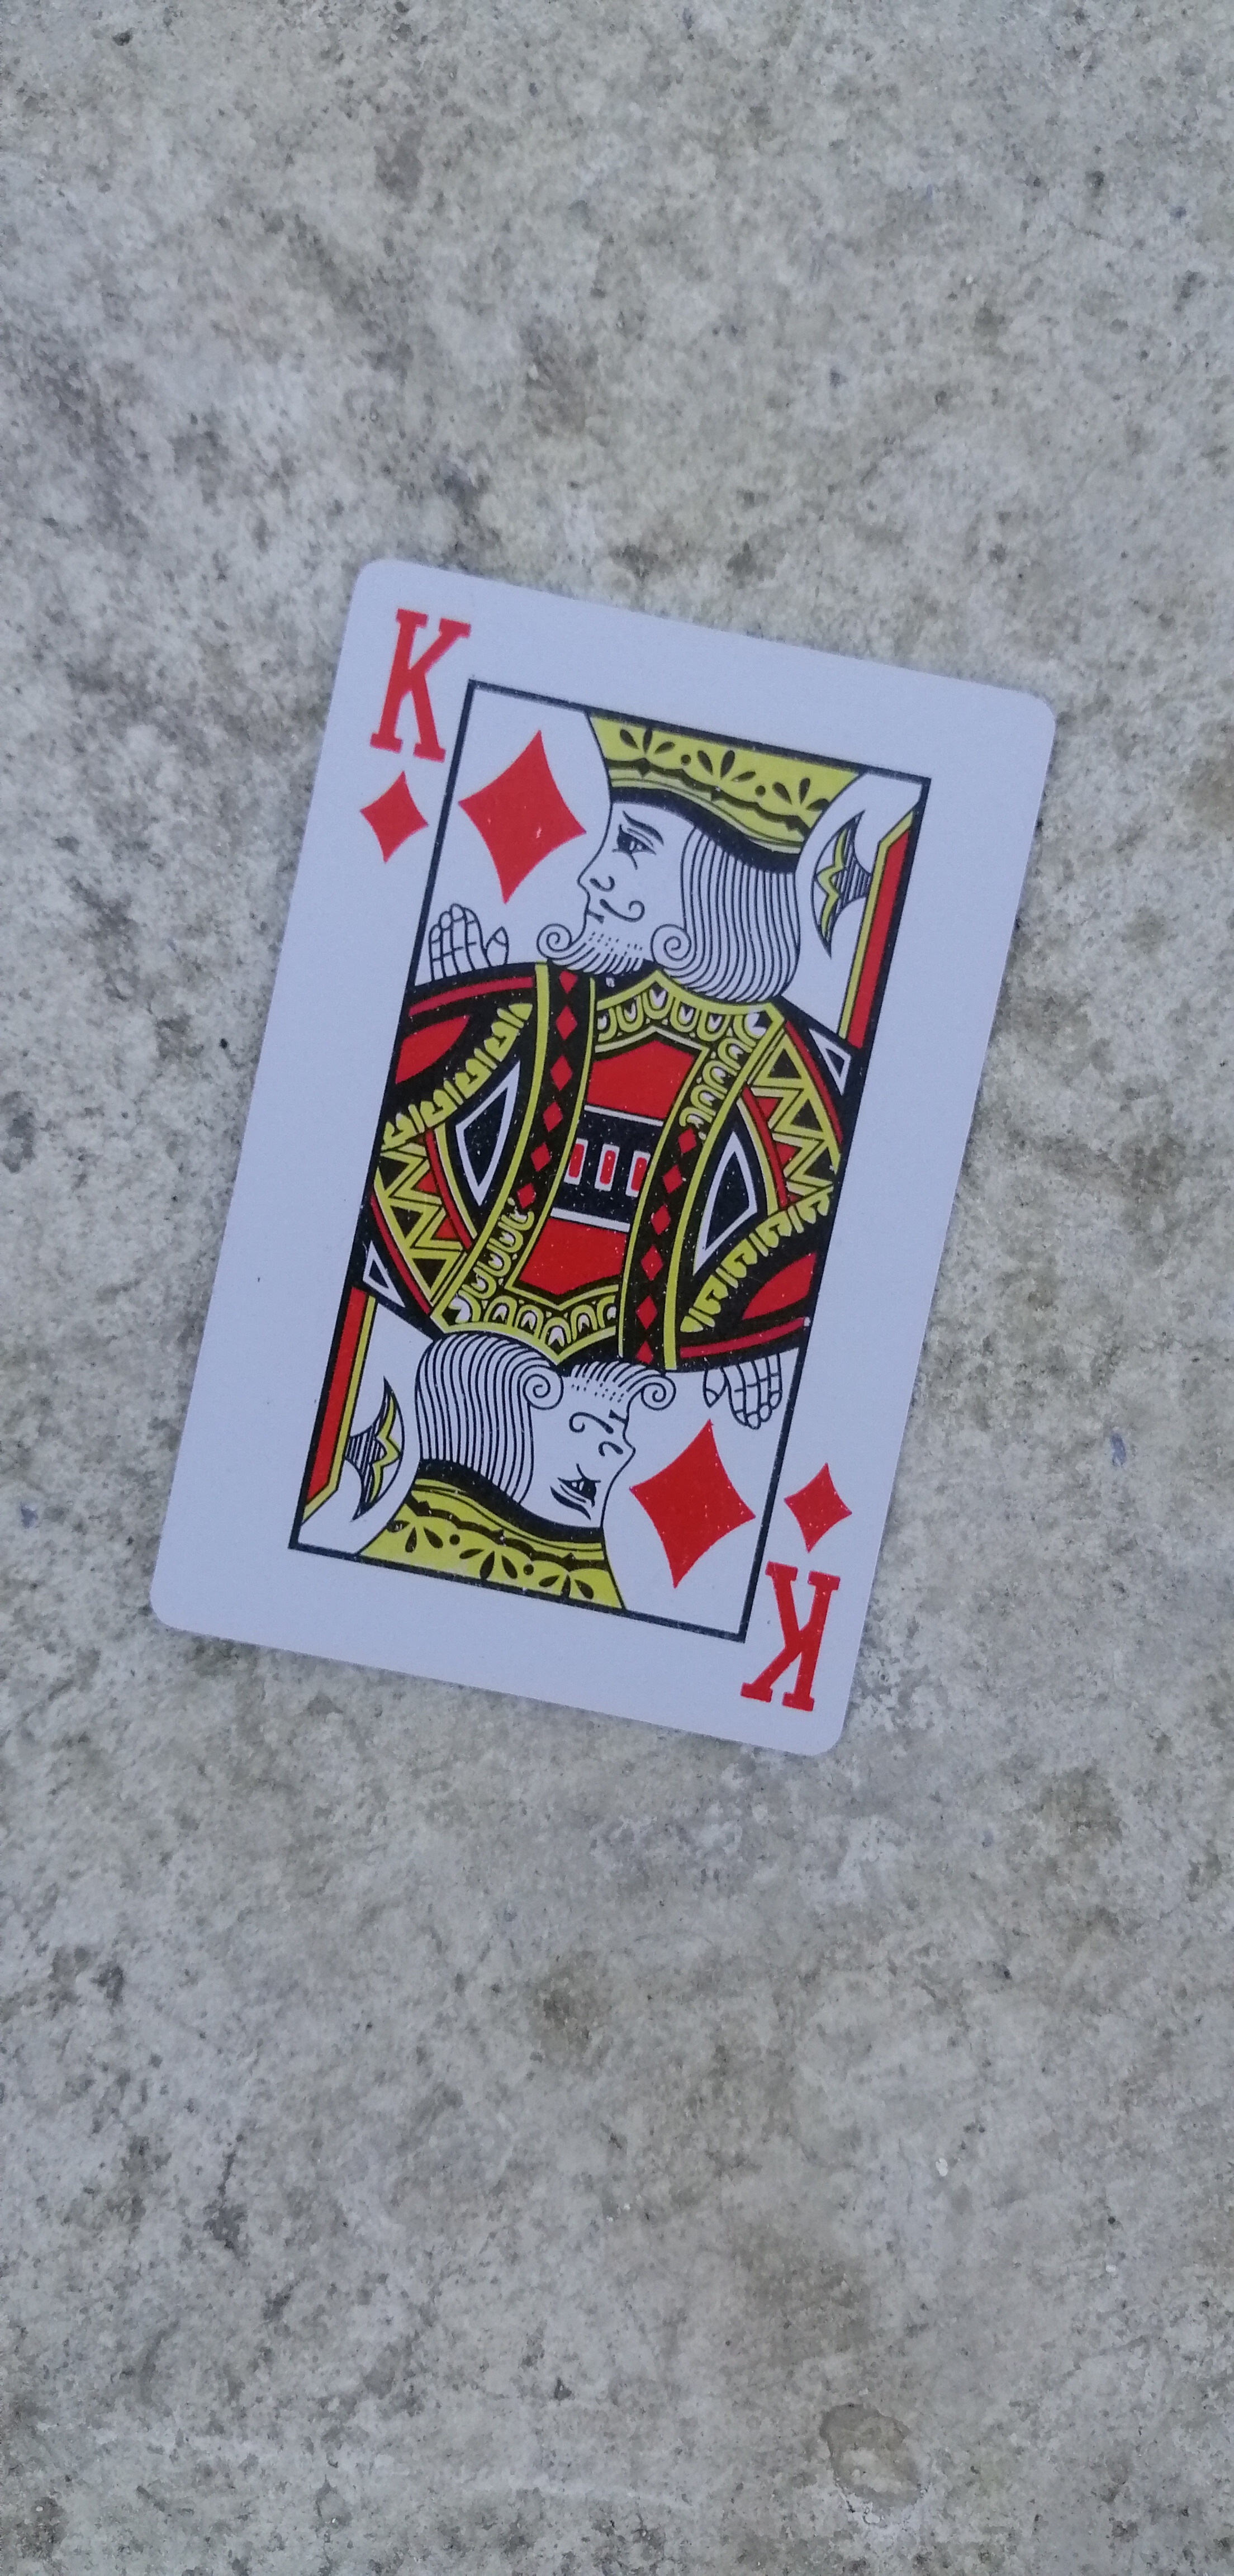king: (128, 555, 1058, 1792)
